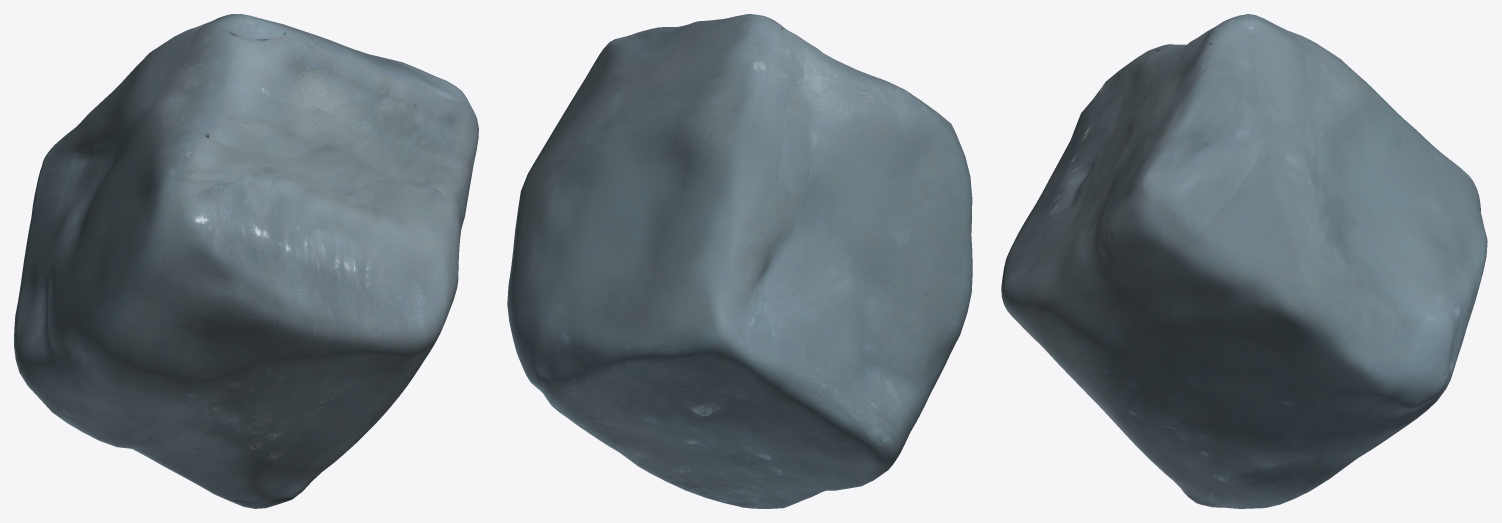
Rendered from Ice.glb.
The picture shows the model from 3 angles, left to right: view 1: azimuth 30°, elevation 25°; view 2: azimuth 150°, elevation 25°; view 3: azimuth 270°, elevation 25°; orthographic projection.
Visible parts, largest first — view 1: input; view 2: input; view 3: input.
Part boxes in pixels (x1,y1,x2,y2): input: [14, 14, 478, 508]; input: [507, 14, 972, 508]; input: [1001, 14, 1487, 508].
Size of the model in its own units: 1.66 by 2 by 1.82.
1 material, 1 textured.
